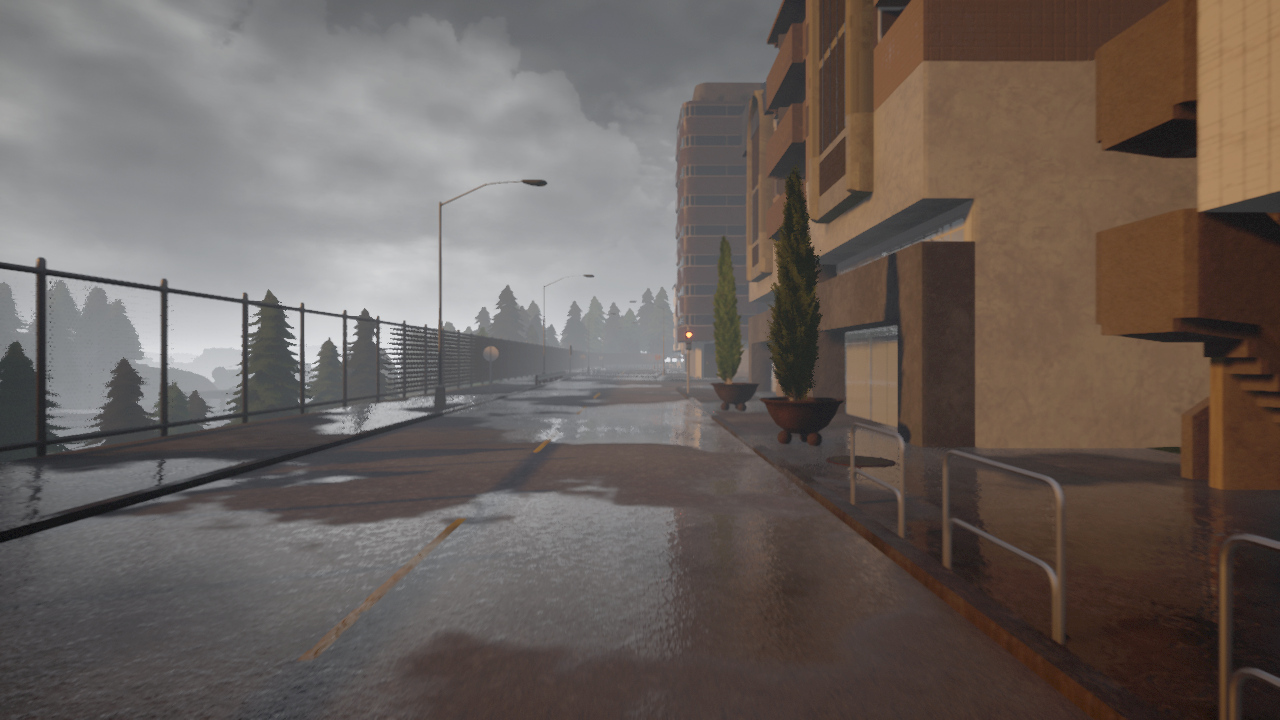red: (684, 330, 692, 350)
